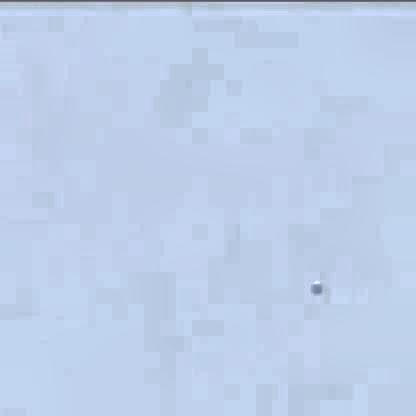golfball: (307, 277, 320, 293)
